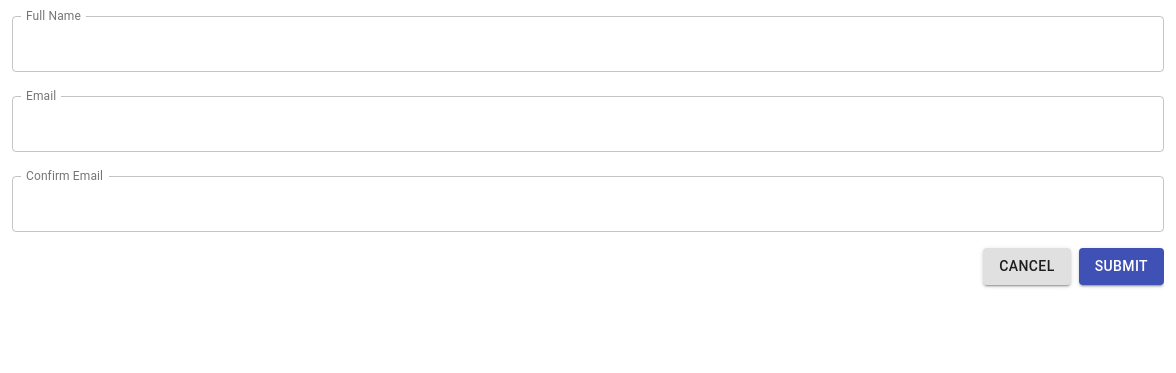
Scenario: testing correct validation messages are shown and submit is not called › check error is shown when too few characters are used for 'fullName'
Expected: the text "Must be at least 3 characters long" is not shown
Type "a" into the field labelled "Full Name".
click(588, 44); type("a")  # box [12,16,1164,72]
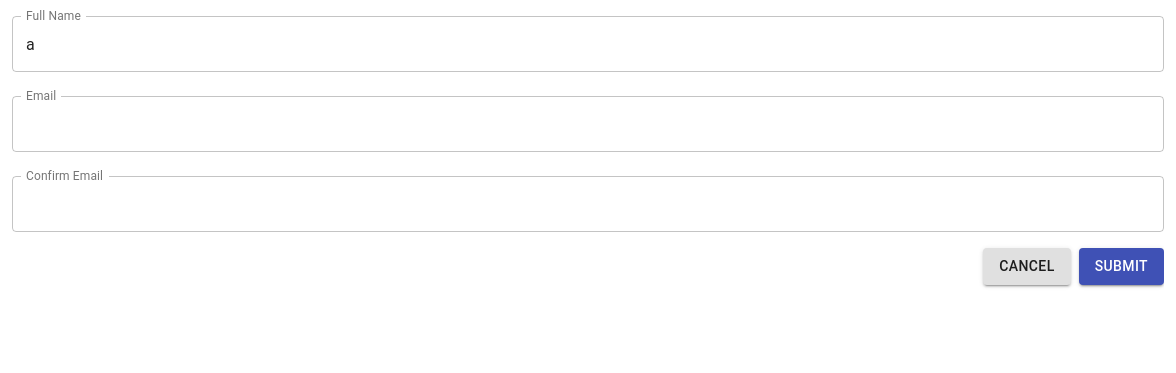
Click the button "Submit".
click(1121, 266)  # box [1079,248,1164,284]
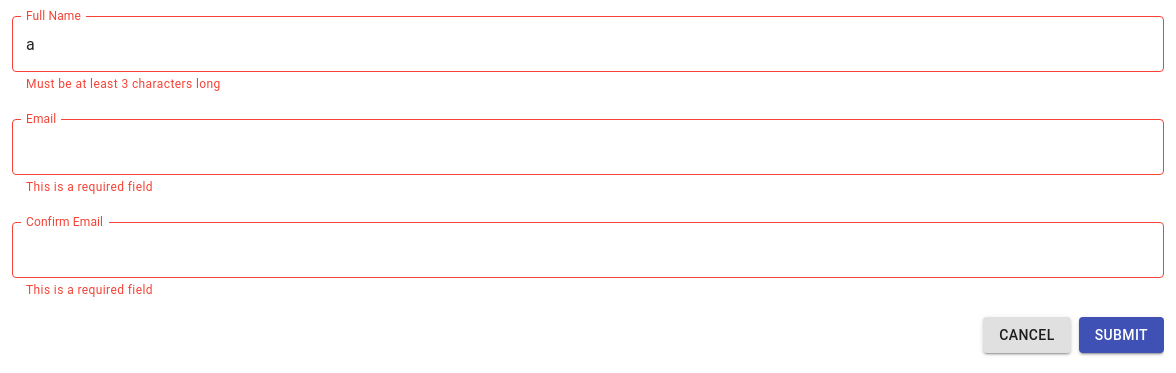
Expected: the text "Must be at least 3 characters long" is shown, [26,77,221,91]
